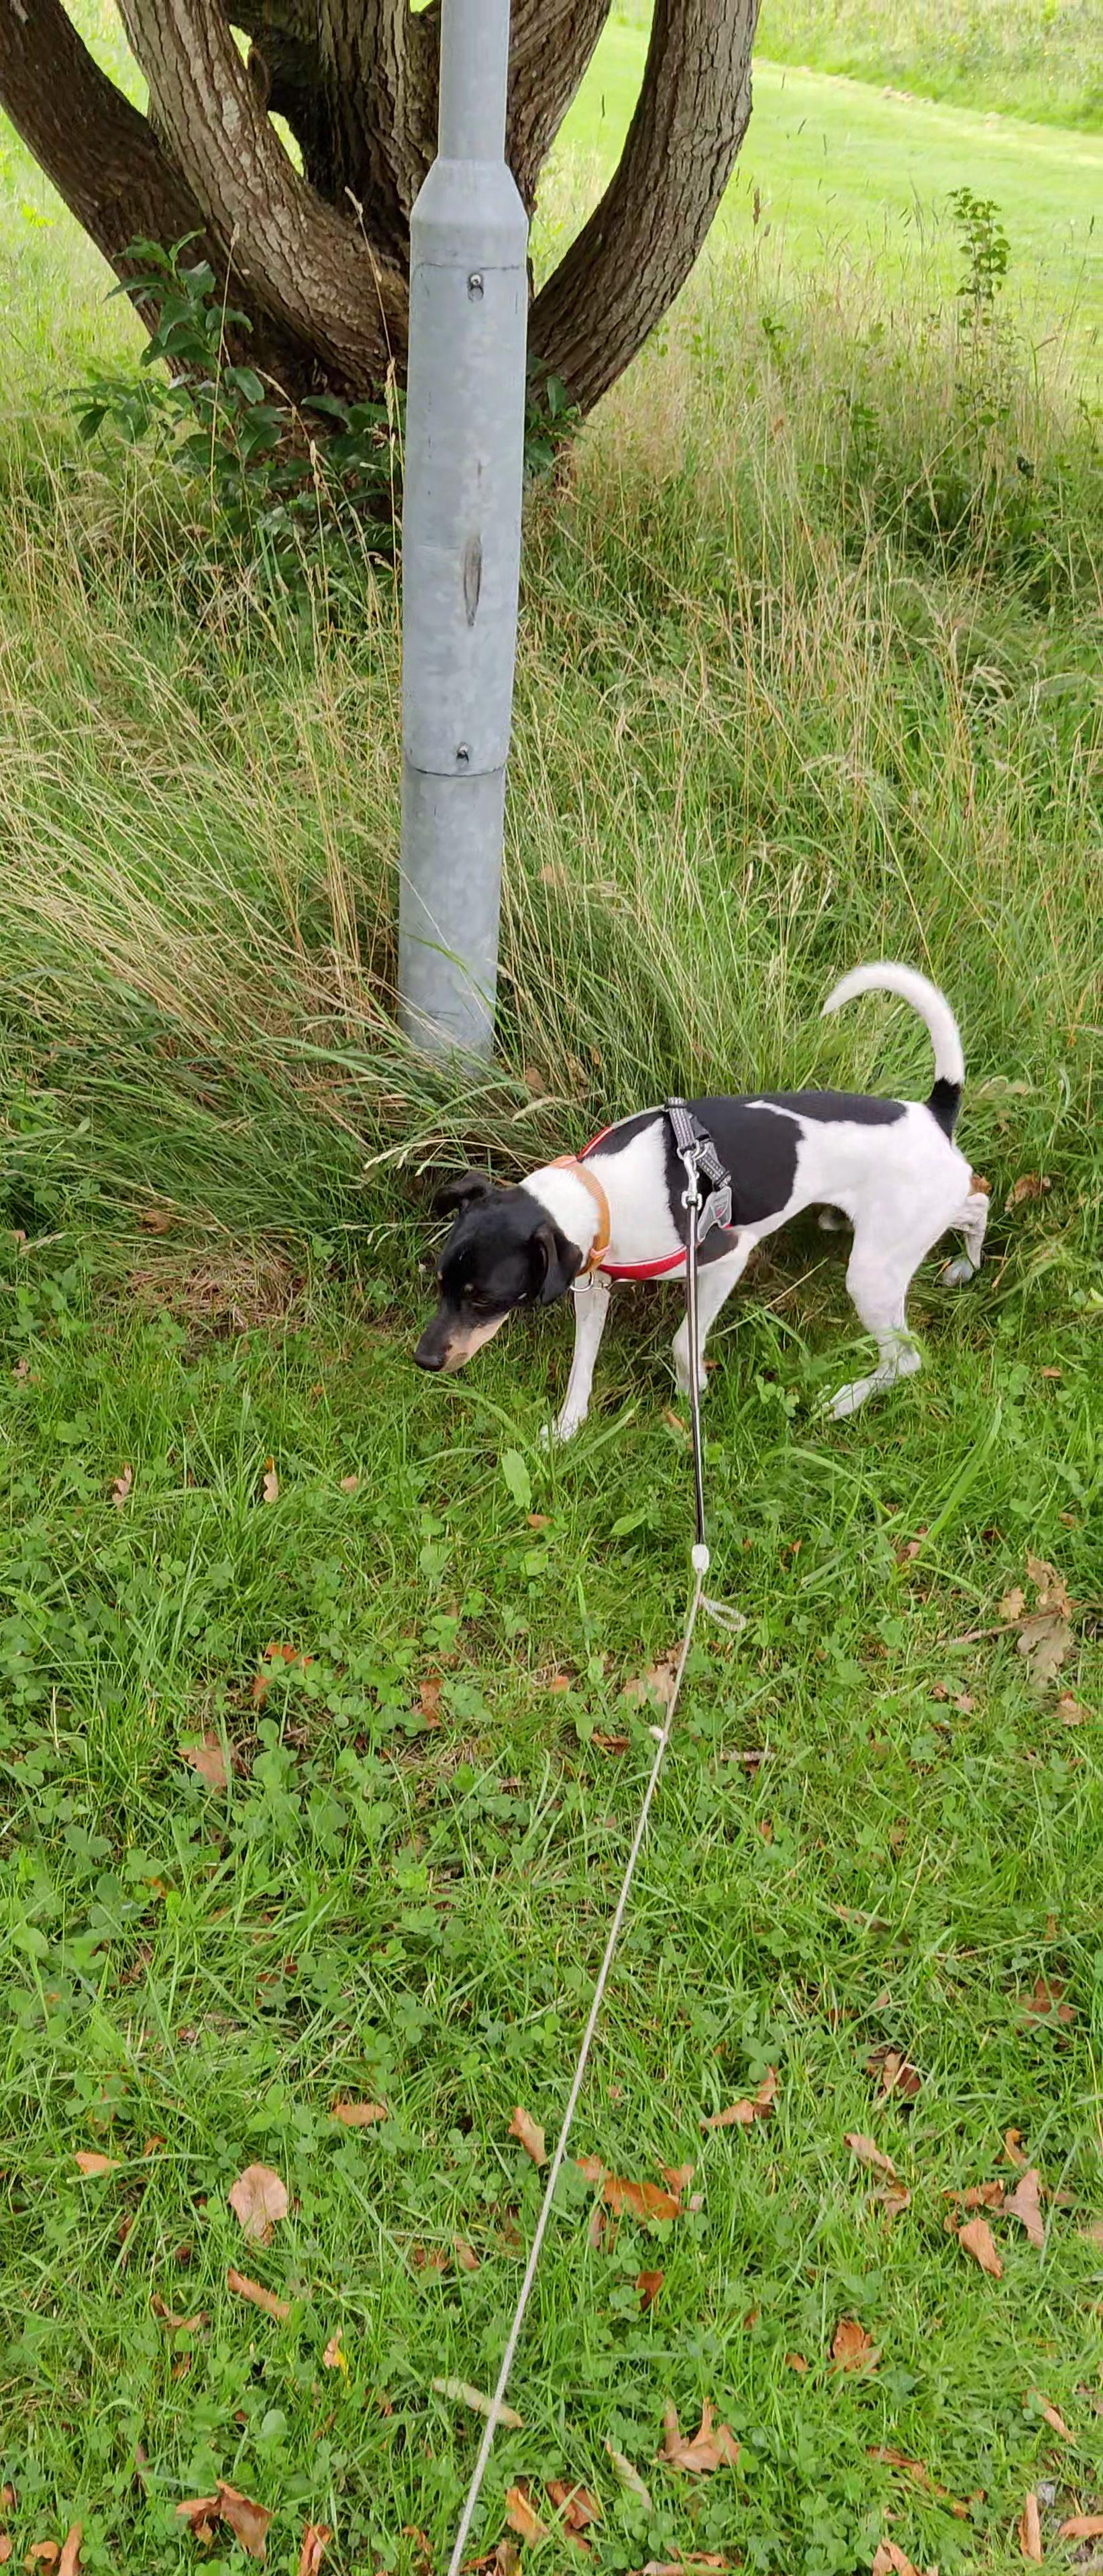Dog: (388, 943, 1004, 1452)
